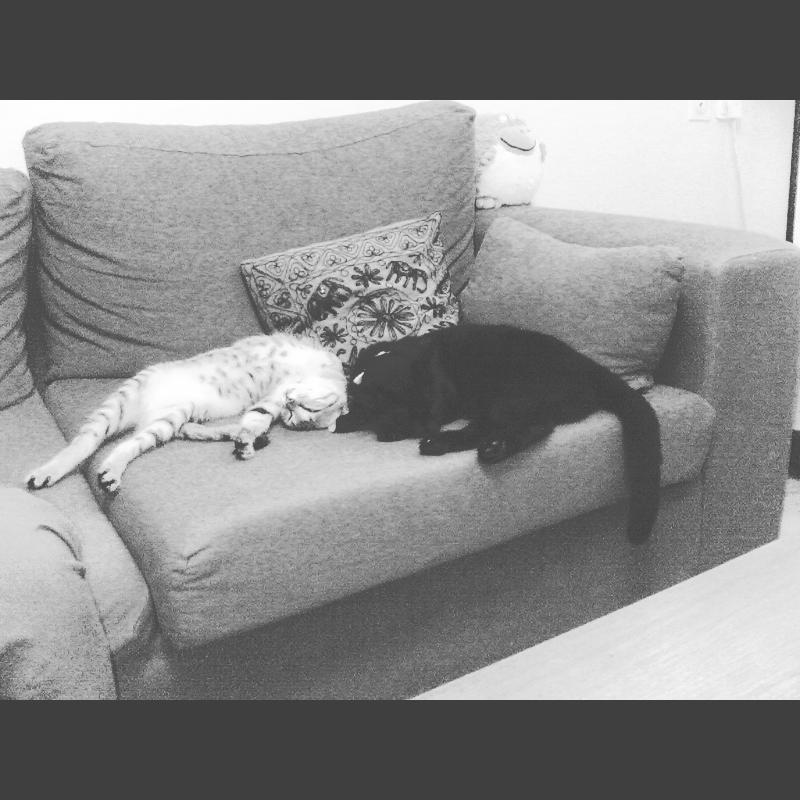pillow: (28, 125, 520, 353), (448, 212, 694, 400), (239, 214, 457, 382)
